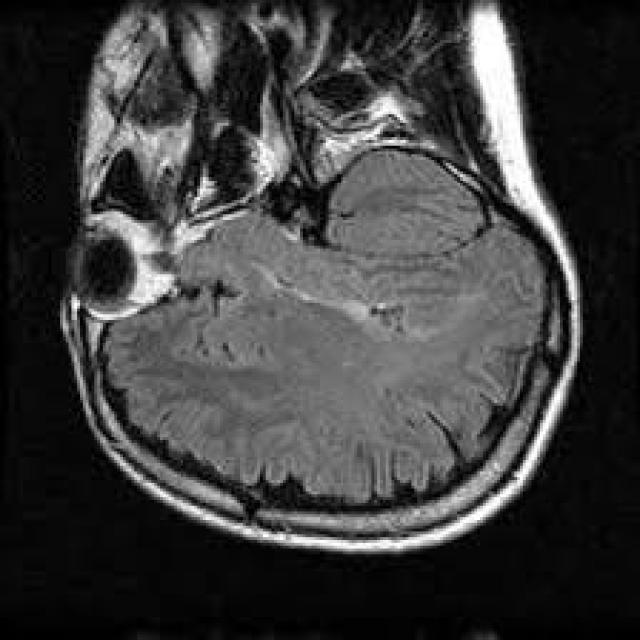no_tumor: (52, 0, 596, 568)
